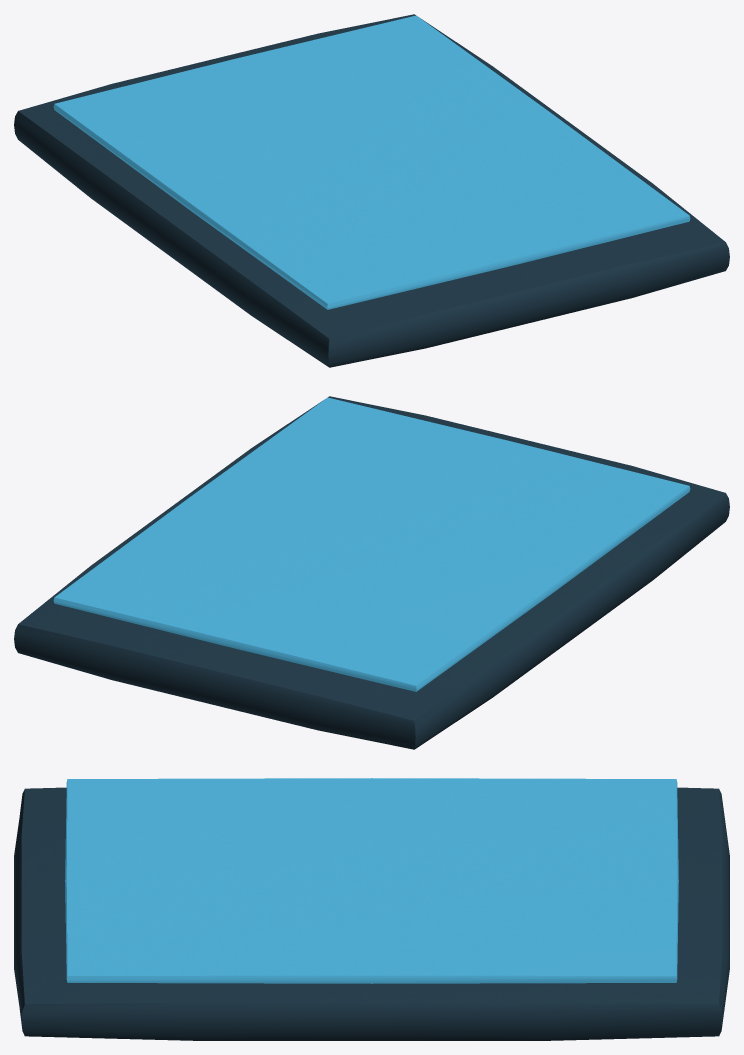
File: tablet.glb
3 views of the same model, one above another, from view 1: azimuth 30°, elevation 25°; view 2: azimuth 150°, elevation 25°; view 3: azimuth 270°, elevation 25° (orthographic). The views are drawn at different scales.
Parts seen in each view (by area): view 1: tablet; view 2: tablet; view 3: tablet.
Boxes of the visible parts, <box> form: tablet: <box>14,14,729,367</box>; tablet: <box>14,396,729,749</box>; tablet: <box>14,778,729,1040</box>.
Bounding box in the file's own units: 0.26 × 0.034 × 0.35.
2 materials, 2 textured.
